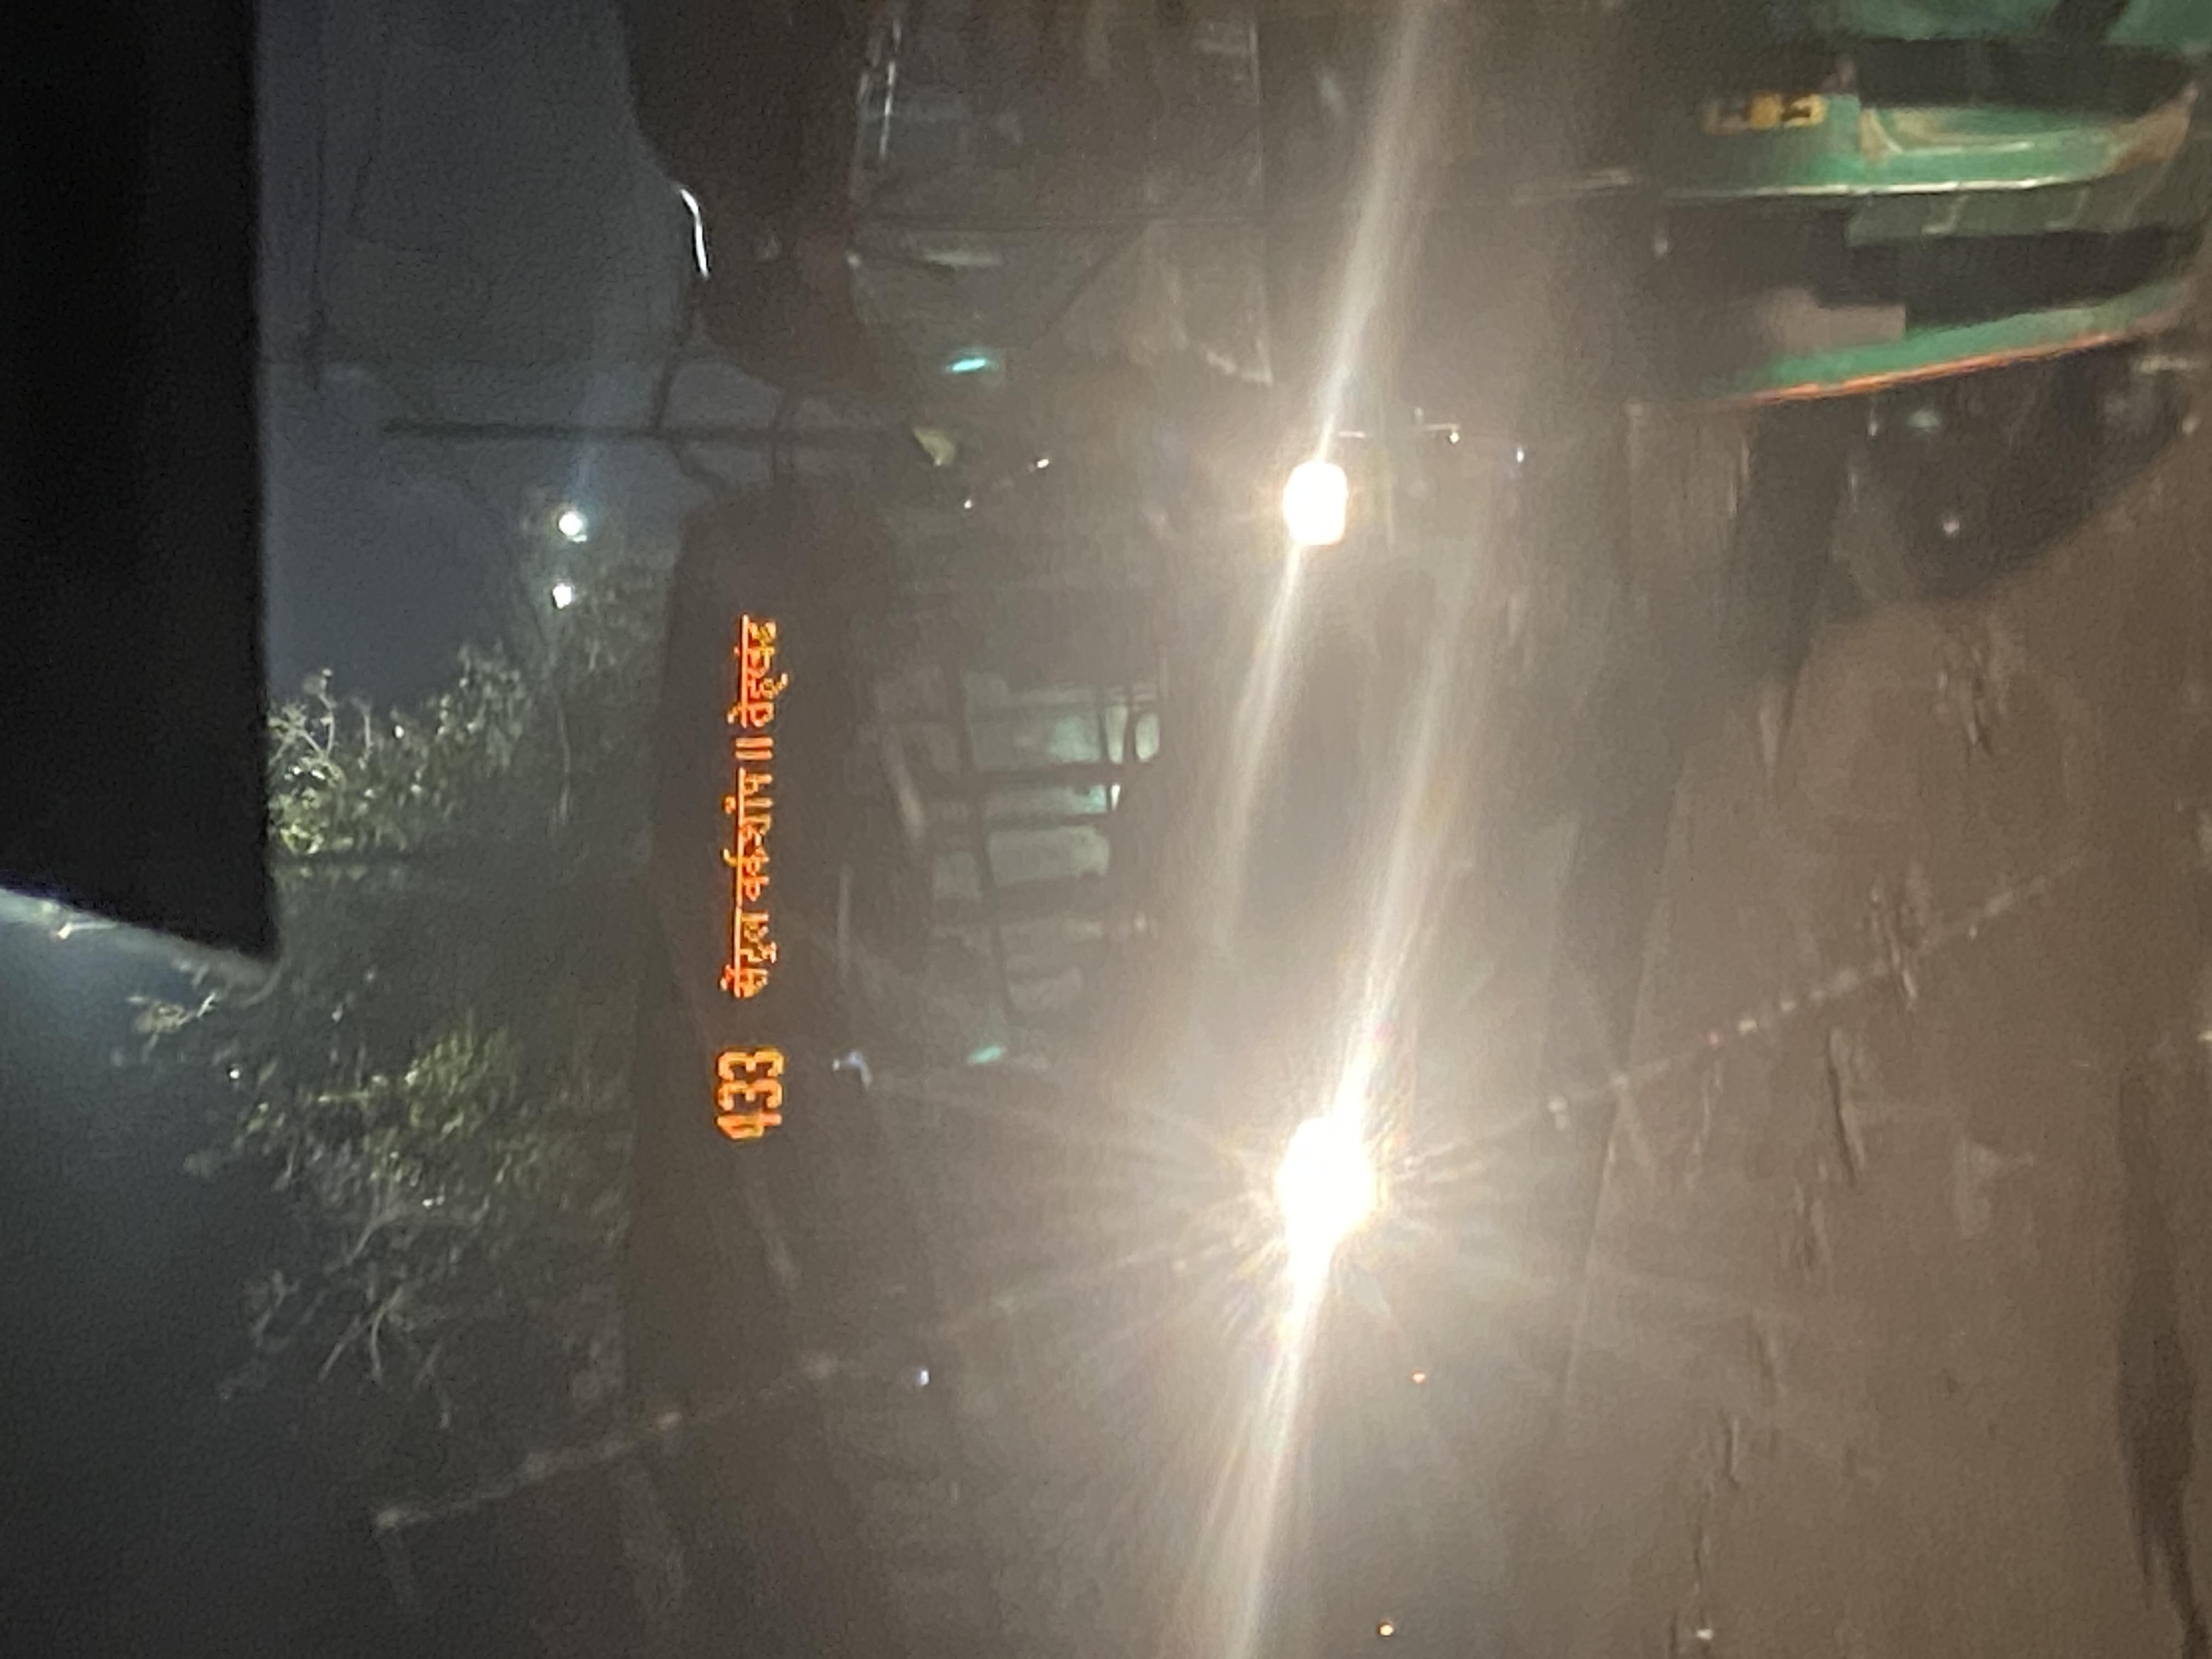Bus: (610, 505, 1449, 1300)
Display Board: (636, 516, 867, 1218)
